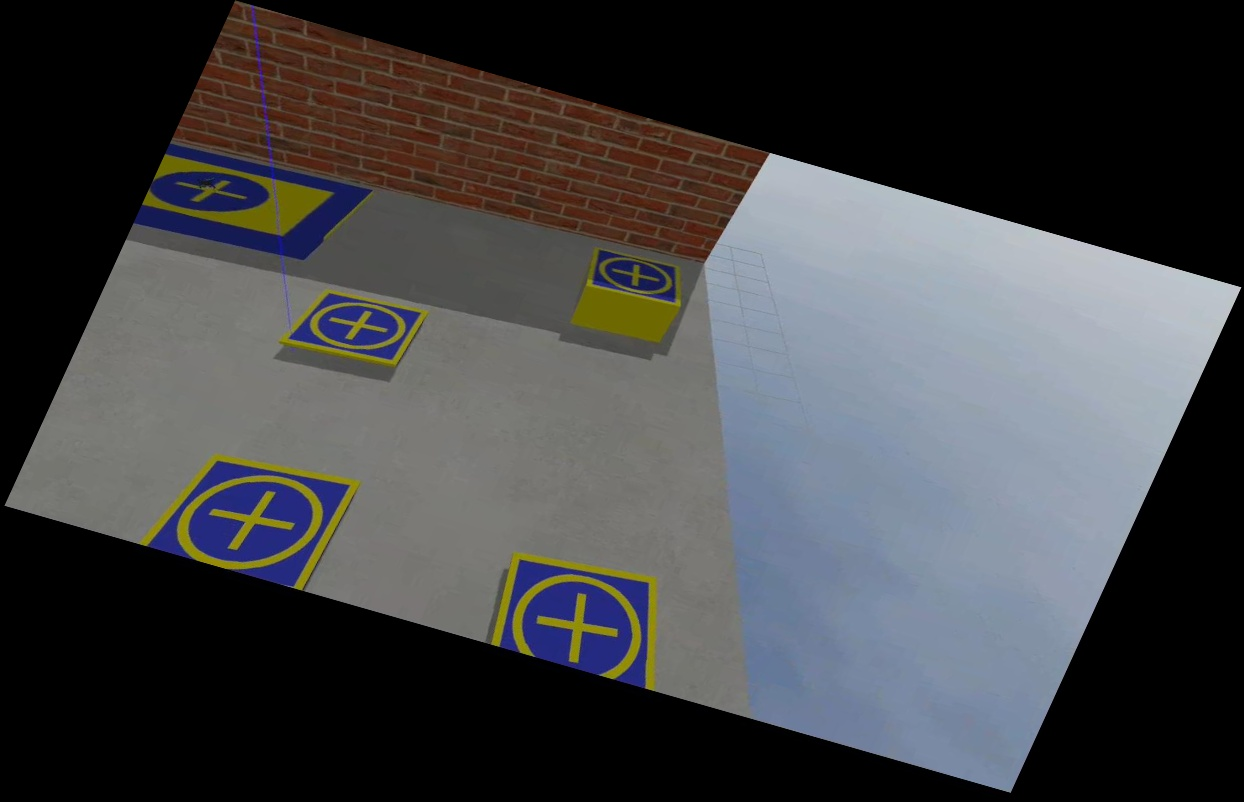large_base: (136, 134, 373, 274)
small_base: (141, 433, 365, 594), (472, 540, 700, 693), (277, 280, 427, 376), (577, 241, 698, 313)
